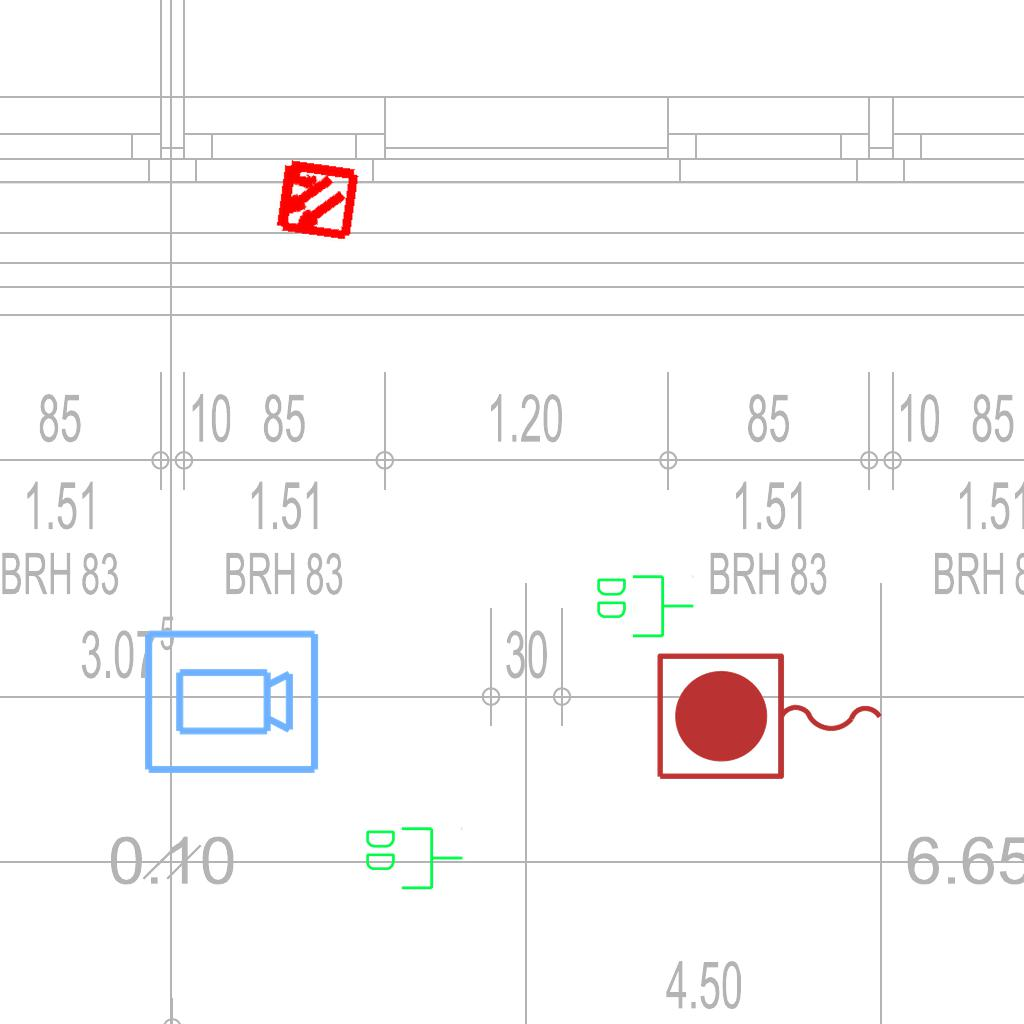Datenanschluss_zweifach: (362, 823, 465, 892), (593, 571, 696, 640)
KFO_Kamera_mit_Festobjektiv: (140, 626, 322, 780)
OT_Multisensormelder_(Kombination_RMO_WMD): (251, 135, 380, 264)
Zugtaster: (649, 646, 893, 790)
